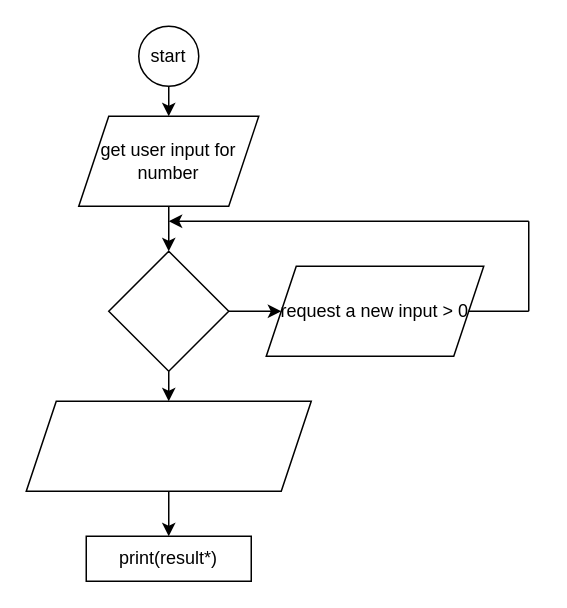
Some shapes in this 567 by 608 pixel diagram are drawn without their labels. The centre of each missing label's shape, as x and y in pixels:
number > 0?: point 168,310
result.append(number % 2): point 168,445
